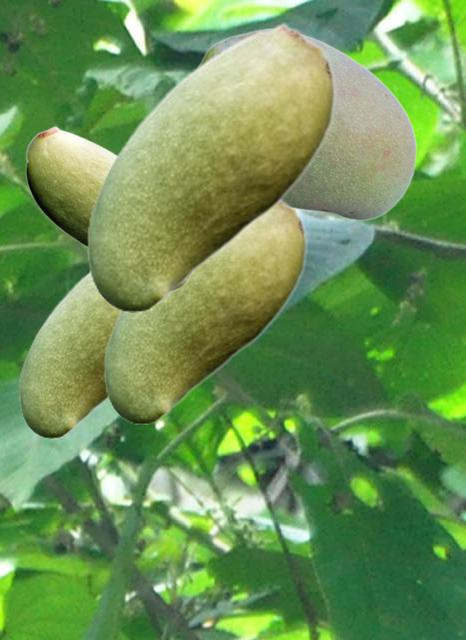green_mango: (86, 22, 335, 311), (103, 199, 306, 423), (197, 27, 416, 220), (25, 125, 189, 290), (18, 271, 117, 437)
